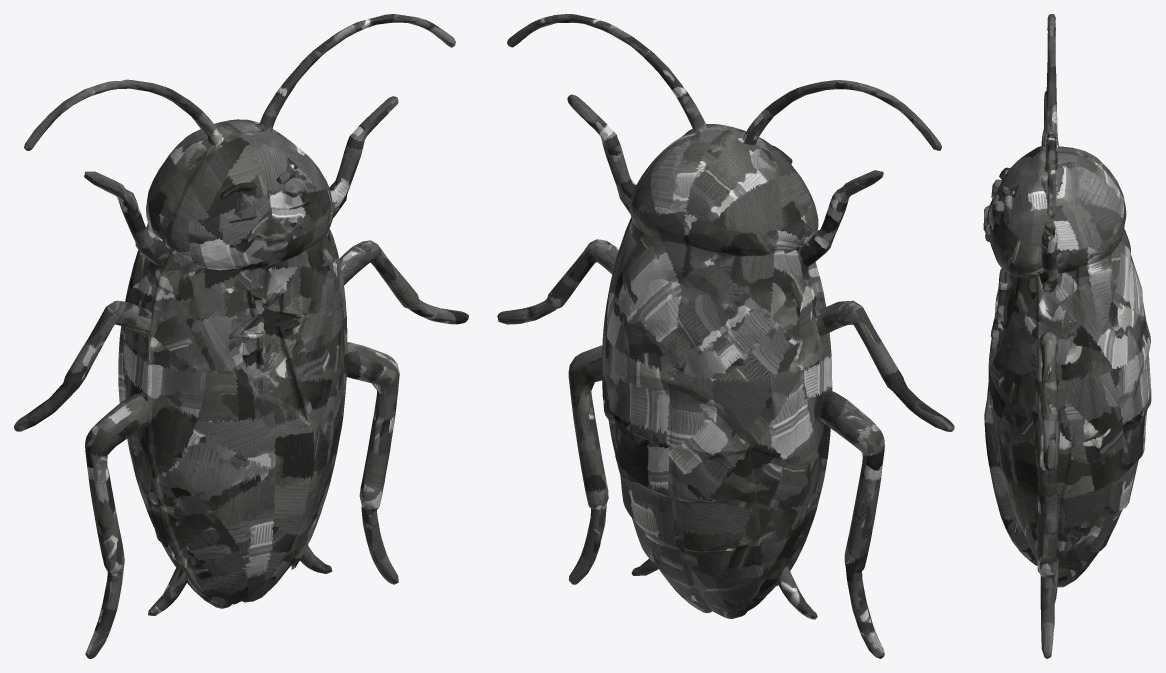
The model's file is Cute_Cockroach_Reduce.fbx.
3 renders of one model, left to right at view 1: azimuth 30°, elevation 25°; view 2: azimuth 150°, elevation 25°; view 3: azimuth 270°, elevation 25°, orthographic. The views are drawn at different scales.
Parts seen in each view (by area): view 1: Mesh_0; view 2: Mesh_0; view 3: Mesh_0.
Boxes of the visible parts, x1,y1,x2,y2 form: Mesh_0: (14,14,468,658); Mesh_0: (497,14,954,658); Mesh_0: (983,14,1151,658).
Size of the model in its own units: 159 by 190 by 56.69.
